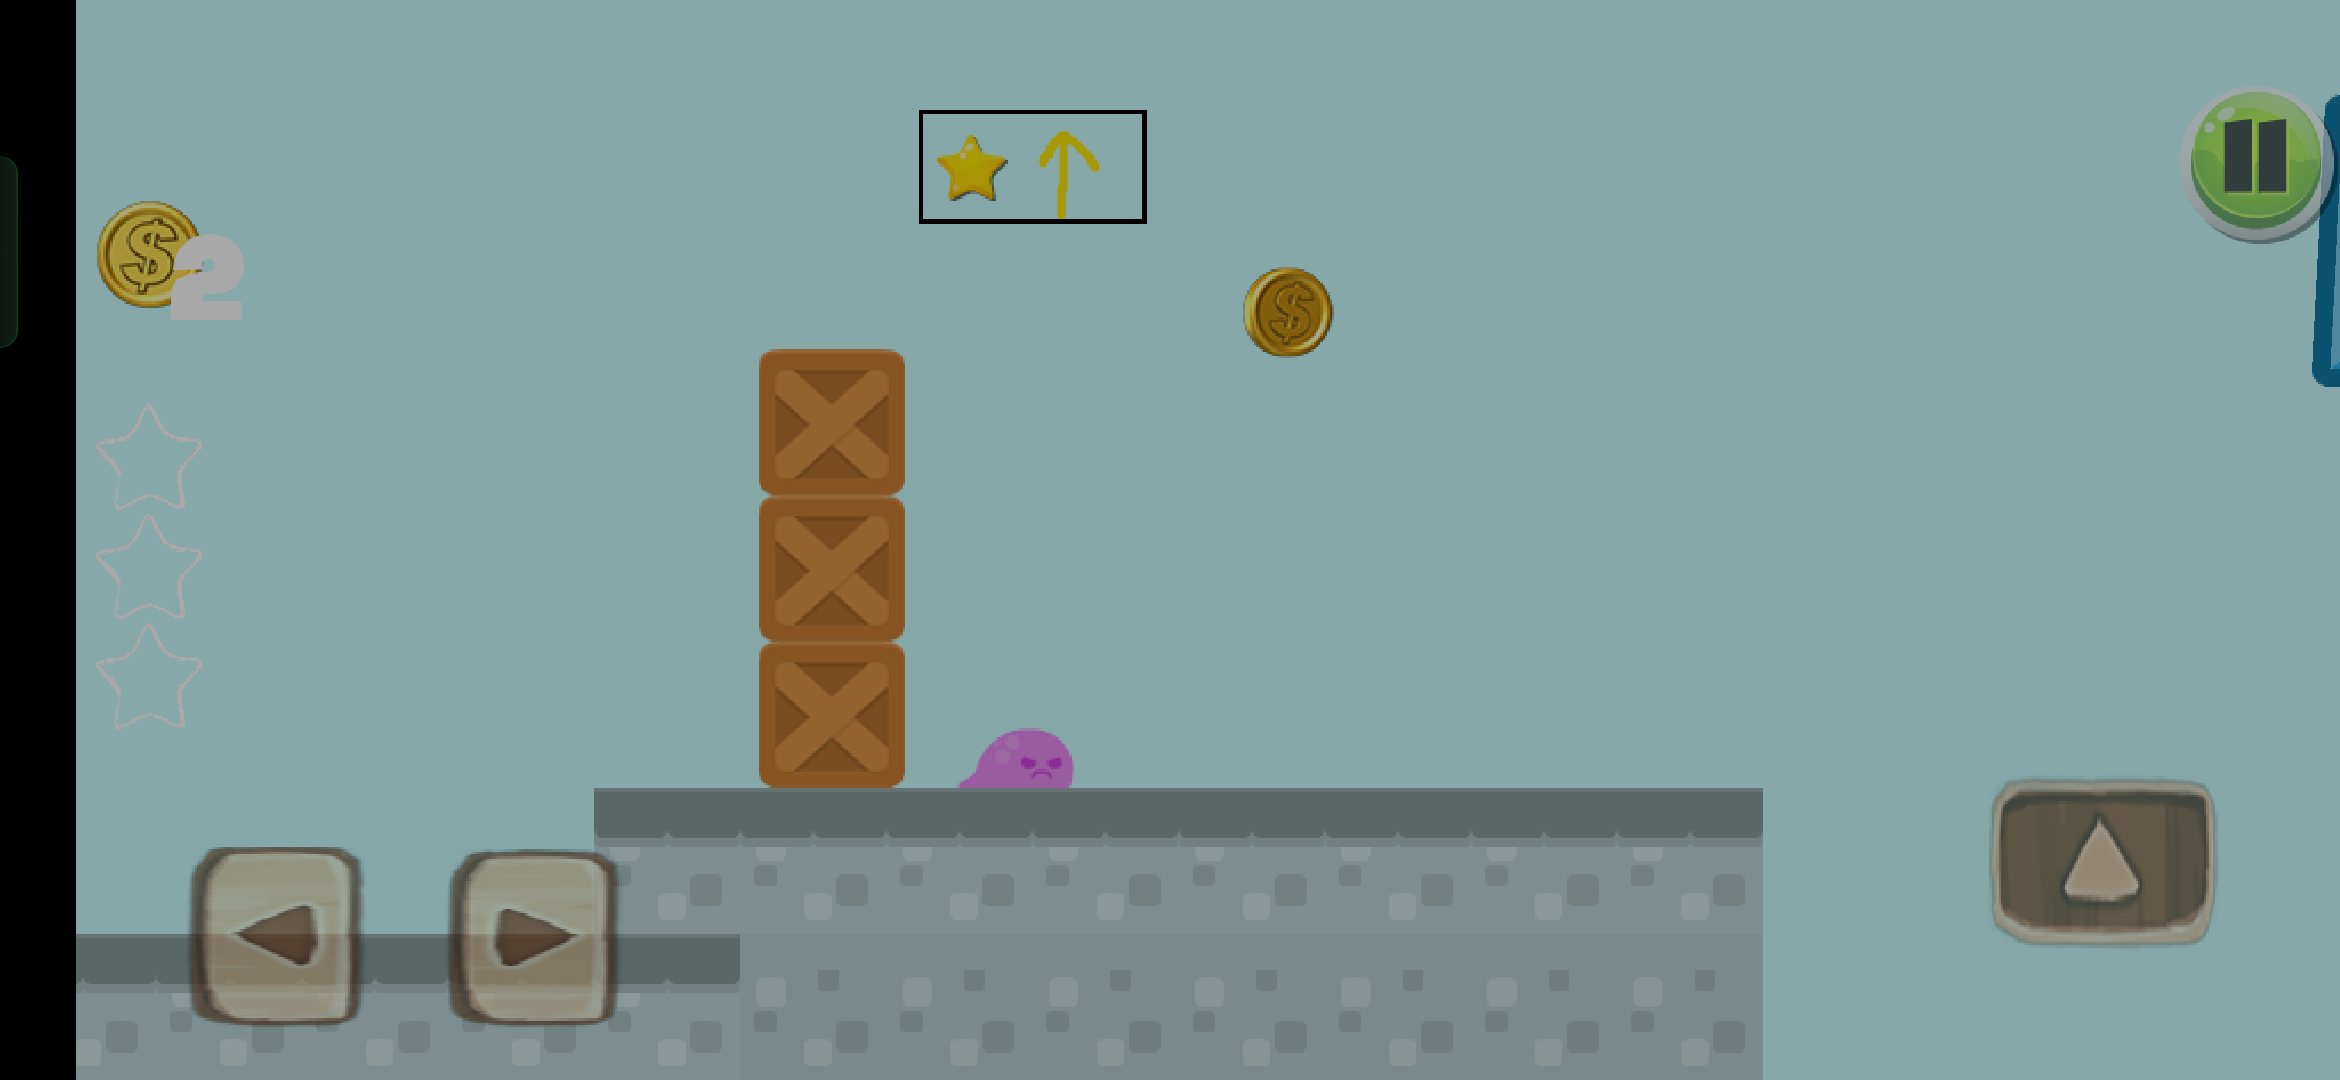Enemy: (963, 731, 1073, 786)
